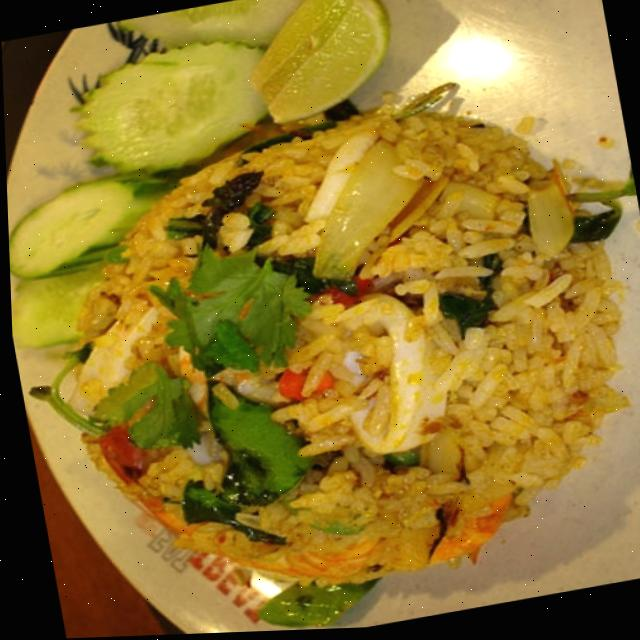米饭主食: (10, 16, 640, 640)
